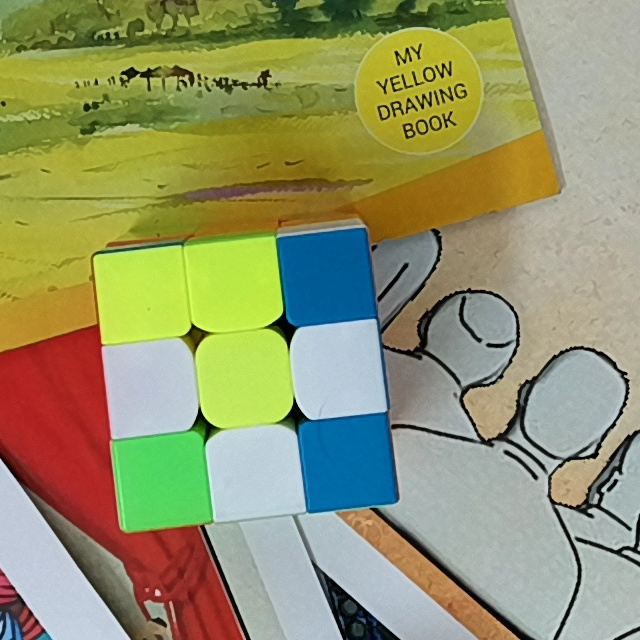tile: (300, 331, 377, 406), (206, 341, 284, 415), (123, 445, 203, 517), (104, 257, 180, 331), (311, 425, 387, 499), (289, 239, 364, 313), (195, 249, 272, 321), (114, 348, 186, 425), (218, 439, 293, 509)
